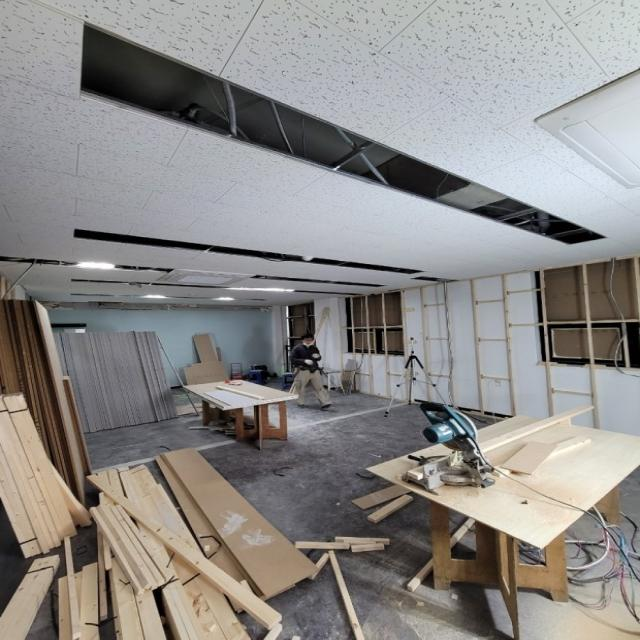board: (365, 414, 640, 549), (164, 446, 318, 597), (154, 454, 295, 610), (34, 300, 90, 508), (182, 380, 299, 410), (184, 363, 229, 386)
stud: (339, 254, 640, 429)
wood: (86, 474, 282, 630), (407, 406, 594, 480), (3, 392, 77, 540), (0, 394, 63, 554), (90, 504, 173, 596), (0, 554, 62, 640), (407, 518, 475, 592), (0, 442, 42, 558), (327, 549, 364, 640), (367, 494, 414, 524), (307, 553, 330, 580), (334, 536, 390, 544), (295, 541, 349, 549), (351, 543, 384, 552)
